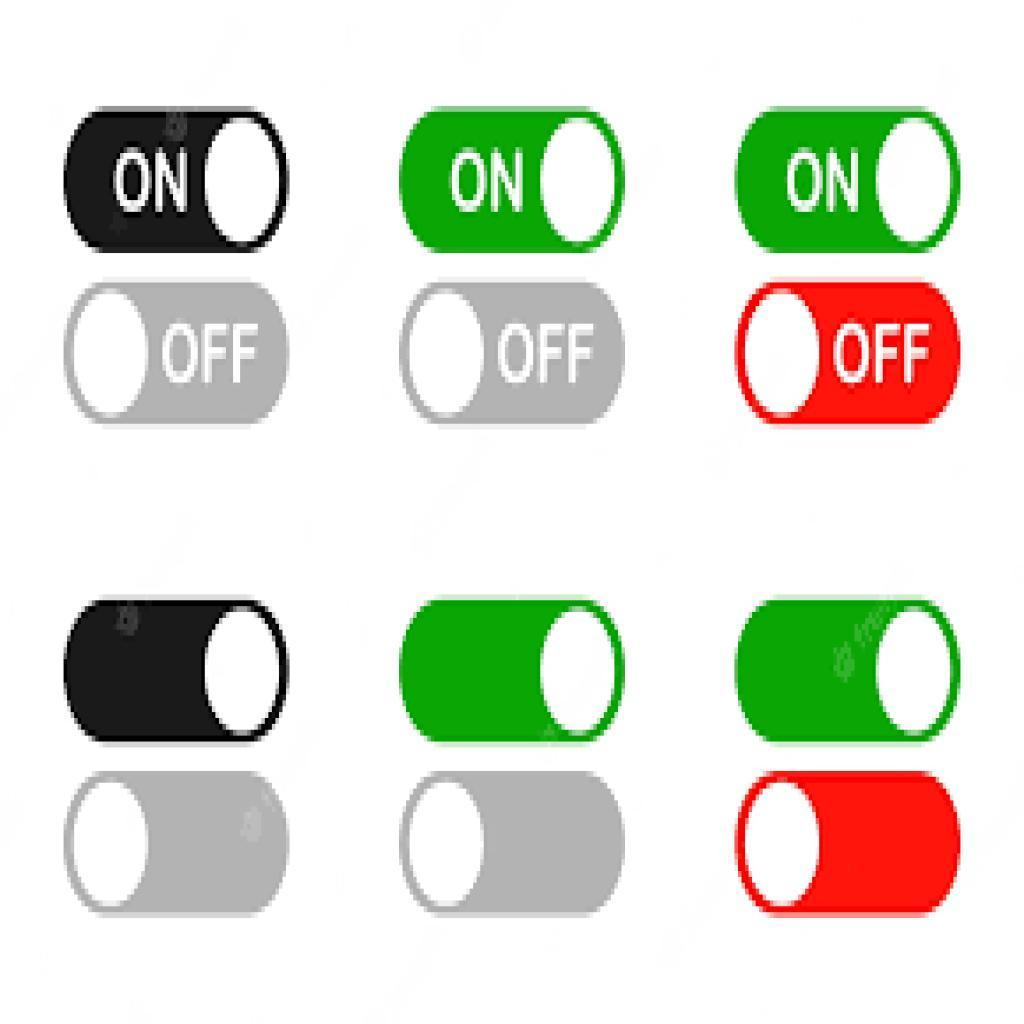switch: (398, 109, 625, 257), (734, 770, 964, 915), (66, 772, 293, 918), (399, 775, 626, 921), (736, 109, 964, 253), (732, 282, 963, 424), (399, 601, 632, 741), (66, 109, 289, 253), (402, 286, 625, 429), (735, 603, 961, 741), (62, 603, 287, 741), (68, 286, 289, 426)
